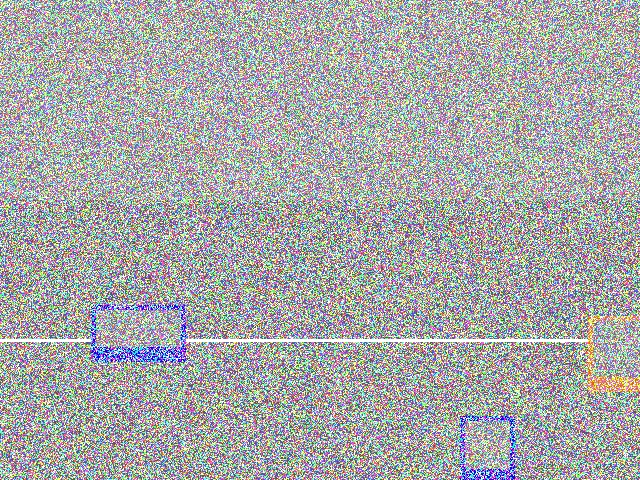car: (428, 188, 615, 269)
truck: (88, 361, 200, 448), (273, 396, 343, 462)
